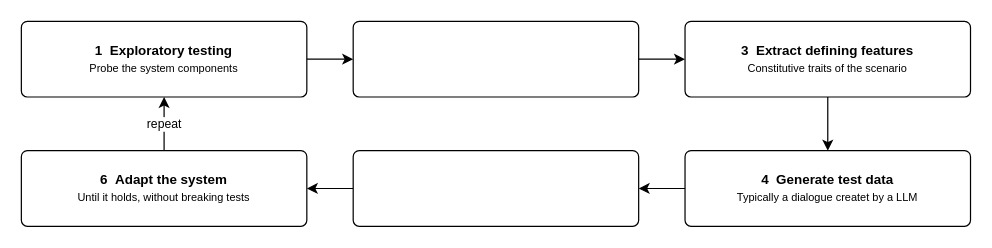
This 992x248 diagram has some shape labels left out. The shapes that lost their labels are listed below. From the top down, each one's centre as x and y in pixels, then its label:
At (495,58): "2 If undesired: isolate Reconstruct the scenario and bound it".
At (495,187): "5 Check against the oracle Set the expected response and verify".
